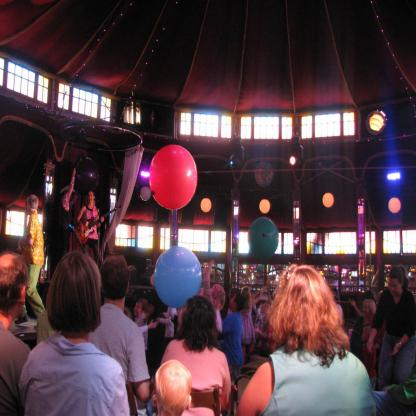Ball: (146, 144, 198, 208), (157, 250, 202, 310), (249, 217, 278, 261)
